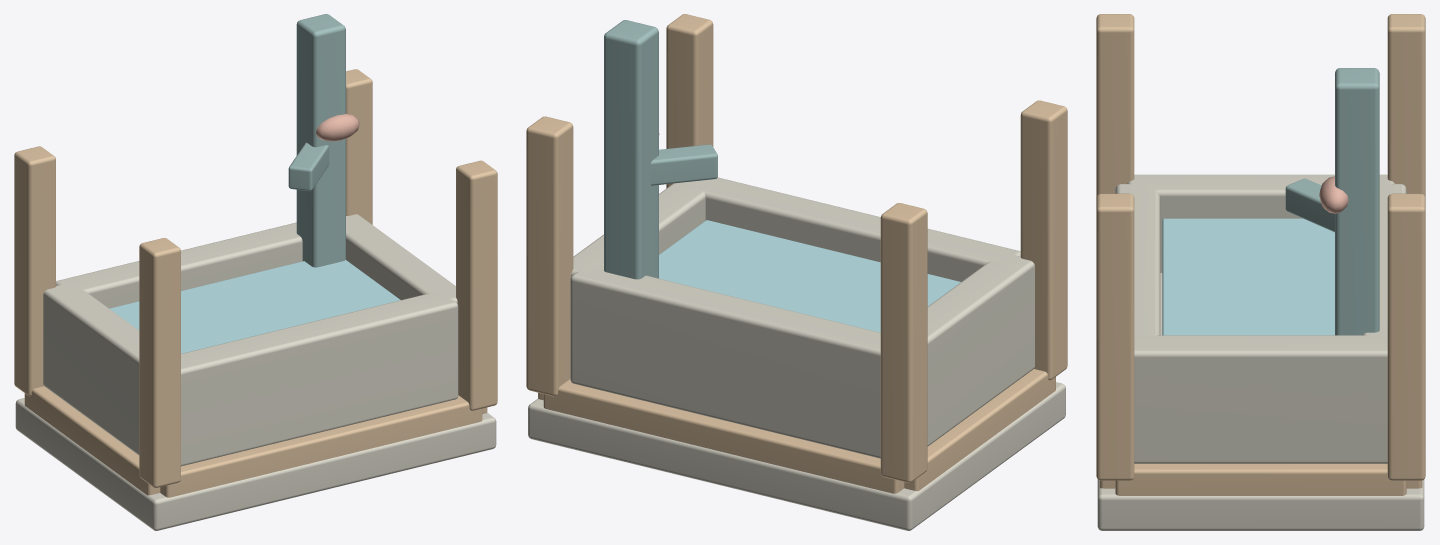
Rendered from water-point-complete.glb.
The picture shows the model from 3 angles, left to right: view 1: azimuth 30°, elevation 25°; view 2: azimuth 150°, elevation 25°; view 3: azimuth 270°, elevation 25°; orthographic projection. The views are drawn at different scales.
Parts seen in each view (by area): view 1: Trough side.002, Rounded stone footing.015, Water surface, Trough end.002, Service mast.001, Corner post.044, Corner post.046, Corner post.045, Sill beam.060, Trough side.003, Trough end.003, Sill beam.062 (+3 smaller); view 2: Trough side.003, Rounded stone footing.015, Water surface, Trough end.002, Service mast.001, Corner post.045, Corner post.047, Corner post.044, Sill beam.061, Trough side.002, Corner post.046, Sill beam.062 (+2 smaller); view 3: Trough end.003, Water surface, Rounded stone footing.015, Service mast.001, Corner post.046, Corner post.047, Sill beam.063, Trough end.002, Corner post.044, Corner post.045, Trough side.002, Spout.001 (+2 smaller).
Boxes of the visible parts, x1=… form: Trough side.002: x1=181, y1=291, x2=458, y2=466; Rounded stone footing.015: x1=15, y1=398, x2=496, y2=530; Water surface: x1=109, y1=260, x2=400, y2=353; Trough end.002: x1=43, y1=284, x2=181, y2=455; Service mast.001: x1=296, y1=14, x2=345, y2=267; Corner post.044: x1=139, y1=238, x2=180, y2=487; Corner post.046: x1=456, y1=160, x2=497, y2=410; Corner post.045: x1=14, y1=146, x2=55, y2=396; Sill beam.060: x1=160, y1=395, x2=482, y2=497; Trough side.003: x1=56, y1=222, x2=347, y2=308; Trough end.003: x1=346, y1=214, x2=457, y2=303; Sill beam.062: x1=24, y1=386, x2=160, y2=495; Trough side.003: x1=570, y1=265, x2=880, y2=458; Rounded stone footing.015: x1=528, y1=382, x2=1065, y2=530; Water surface: x1=659, y1=220, x2=960, y2=332; Trough end.002: x1=880, y1=255, x2=1034, y2=446; Service mast.001: x1=604, y1=20, x2=658, y2=279; Corner post.045: x1=880, y1=203, x2=927, y2=482; Corner post.047: x1=526, y1=116, x2=573, y2=396; Corner post.044: x1=1020, y1=100, x2=1067, y2=380; Sill beam.061: x1=543, y1=379, x2=904, y2=493; Trough side.002: x1=694, y1=177, x2=1020, y2=281; Corner post.046: x1=666, y1=14, x2=713, y2=188; Sill beam.062: x1=904, y1=369, x2=1055, y2=491; Trough end.003: x1=1134, y1=335, x2=1387, y2=463; Water surface: x1=1162, y1=218, x2=1334, y2=335; Rounded stone footing.015: x1=1097, y1=479, x2=1424, y2=530; Service mast.001: x1=1335, y1=68, x2=1379, y2=335; Corner post.046: x1=1096, y1=193, x2=1134, y2=480; Corner post.047: x1=1387, y1=193, x2=1425, y2=480; Sill beam.063: x1=1115, y1=463, x2=1406, y2=495; Trough end.002: x1=1127, y1=174, x2=1394, y2=272; Corner post.044: x1=1096, y1=14, x2=1134, y2=197; Corner post.045: x1=1387, y1=14, x2=1425, y2=197; Trough side.002: x1=1115, y1=184, x2=1160, y2=335; Spout.001: x1=1285, y1=178, x2=1334, y2=232.
Bounding box in the file's own units: 2.07 × 2.07 × 1.47.
